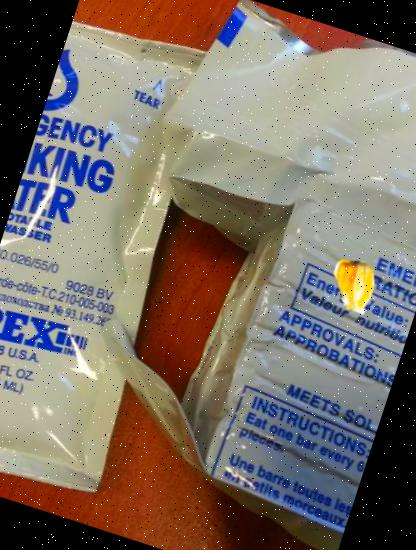Physalis: (318, 253, 387, 321)
